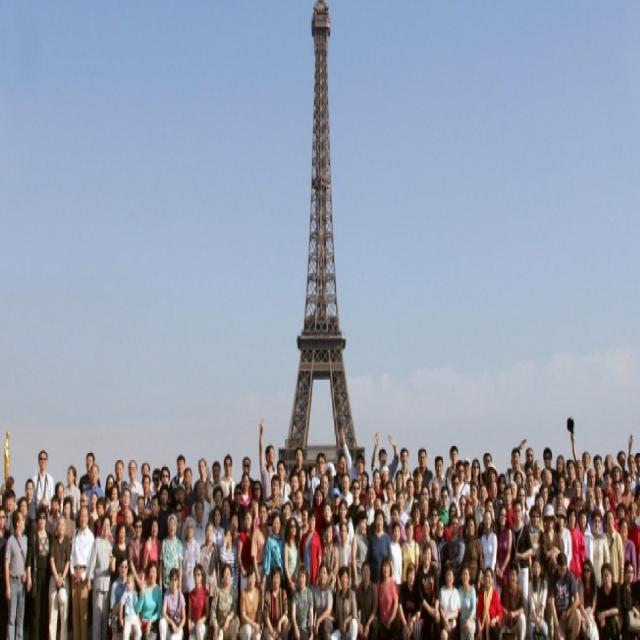body: (86, 511, 115, 640), (2, 506, 30, 639), (68, 503, 95, 640), (510, 496, 536, 635), (46, 513, 74, 639), (540, 504, 565, 640), (31, 505, 56, 639), (548, 548, 583, 639), (250, 499, 274, 631), (108, 519, 138, 616), (414, 538, 442, 639), (180, 514, 201, 640), (209, 561, 242, 640), (494, 504, 514, 634), (499, 559, 531, 639), (328, 561, 358, 639), (135, 558, 163, 640), (566, 415, 592, 503), (364, 508, 394, 584), (158, 511, 185, 595), (158, 564, 188, 639), (261, 564, 291, 639), (396, 559, 424, 639), (375, 554, 401, 640), (566, 504, 587, 610), (261, 510, 288, 592), (587, 506, 611, 598), (298, 506, 324, 590), (354, 556, 380, 639), (595, 562, 622, 640), (282, 516, 302, 621), (198, 518, 222, 604), (126, 513, 151, 595), (526, 554, 550, 639), (475, 565, 502, 640), (290, 562, 316, 639), (108, 556, 132, 639), (238, 563, 264, 639), (436, 560, 461, 639), (587, 507, 611, 589), (461, 512, 484, 594), (187, 562, 210, 640), (258, 413, 278, 502), (312, 560, 334, 640), (617, 559, 639, 639), (339, 427, 366, 492), (523, 503, 545, 581), (446, 513, 468, 590), (237, 506, 256, 594), (578, 557, 598, 640), (118, 571, 142, 640), (0, 504, 12, 640), (370, 430, 400, 484), (454, 450, 474, 530), (457, 564, 478, 640), (352, 509, 371, 590), (31, 450, 55, 514), (626, 499, 640, 608), (514, 432, 538, 495), (446, 514, 466, 589), (616, 516, 638, 584), (218, 523, 240, 590), (321, 520, 340, 595), (142, 516, 162, 586), (606, 510, 624, 586), (428, 454, 454, 505), (124, 458, 146, 518), (554, 506, 574, 572), (262, 474, 284, 532), (346, 476, 368, 534), (401, 518, 420, 585), (193, 456, 216, 510), (479, 508, 498, 572), (205, 459, 228, 510), (434, 517, 450, 590), (392, 446, 416, 493), (62, 464, 82, 520), (144, 492, 166, 542), (576, 506, 594, 566), (334, 497, 356, 546), (418, 517, 438, 570), (389, 520, 403, 595), (566, 476, 587, 526), (336, 519, 353, 580), (74, 491, 96, 538), (190, 479, 212, 526), (78, 450, 102, 492), (228, 482, 247, 535), (116, 486, 139, 528), (503, 447, 527, 487), (367, 465, 391, 505), (601, 446, 616, 510), (60, 495, 78, 547), (85, 461, 104, 510), (23, 476, 38, 537), (583, 486, 602, 534), (155, 466, 175, 511), (480, 450, 499, 497), (158, 483, 173, 542), (219, 453, 237, 502), (443, 500, 463, 544), (516, 484, 532, 538), (477, 497, 498, 538), (320, 501, 340, 544), (288, 445, 310, 484), (411, 447, 433, 486), (380, 478, 397, 528), (386, 502, 407, 542), (207, 484, 226, 528), (311, 483, 326, 537), (608, 479, 628, 519), (389, 488, 410, 526), (311, 449, 328, 495), (2, 474, 16, 528), (276, 458, 292, 505), (552, 453, 569, 497), (409, 501, 426, 544), (46, 494, 62, 539), (412, 504, 427, 551), (542, 464, 556, 514), (250, 477, 265, 523), (169, 452, 187, 490), (402, 477, 419, 517), (105, 469, 122, 509), (193, 498, 206, 550), (574, 459, 589, 504), (332, 450, 348, 492), (436, 484, 451, 528), (364, 483, 378, 530), (540, 446, 556, 487), (92, 496, 107, 539), (17, 496, 33, 535), (338, 471, 354, 510), (474, 483, 487, 531), (503, 483, 516, 531), (211, 504, 225, 548), (176, 482, 190, 525), (449, 472, 462, 518), (88, 490, 100, 539), (114, 458, 128, 500), (184, 467, 196, 516), (626, 454, 640, 496), (287, 468, 302, 507), (291, 489, 306, 527), (444, 444, 459, 482), (238, 455, 255, 488), (174, 498, 186, 544), (297, 502, 310, 544), (564, 458, 577, 500), (469, 456, 484, 492), (620, 472, 635, 508), (428, 503, 441, 544), (239, 470, 253, 508), (592, 453, 606, 491), (555, 470, 567, 514), (137, 459, 154, 490), (427, 477, 442, 511), (613, 500, 628, 533), (141, 473, 154, 511), (412, 464, 425, 502), (592, 483, 606, 518), (330, 486, 342, 526), (358, 470, 370, 510), (524, 472, 536, 512), (434, 518, 448, 552), (297, 467, 310, 503), (469, 478, 482, 514), (229, 511, 241, 549), (136, 494, 152, 522), (635, 460, 640, 546), (319, 472, 332, 505), (220, 496, 232, 531), (627, 429, 640, 461), (497, 472, 508, 508), (592, 453, 604, 486), (54, 481, 66, 514), (418, 484, 429, 520), (123, 506, 136, 536), (616, 450, 629, 480), (325, 461, 338, 486), (305, 459, 317, 484), (279, 499, 292, 522), (610, 460, 622, 484), (585, 466, 597, 489), (151, 463, 161, 489), (354, 501, 368, 519), (394, 469, 404, 494), (38, 497, 50, 512)
